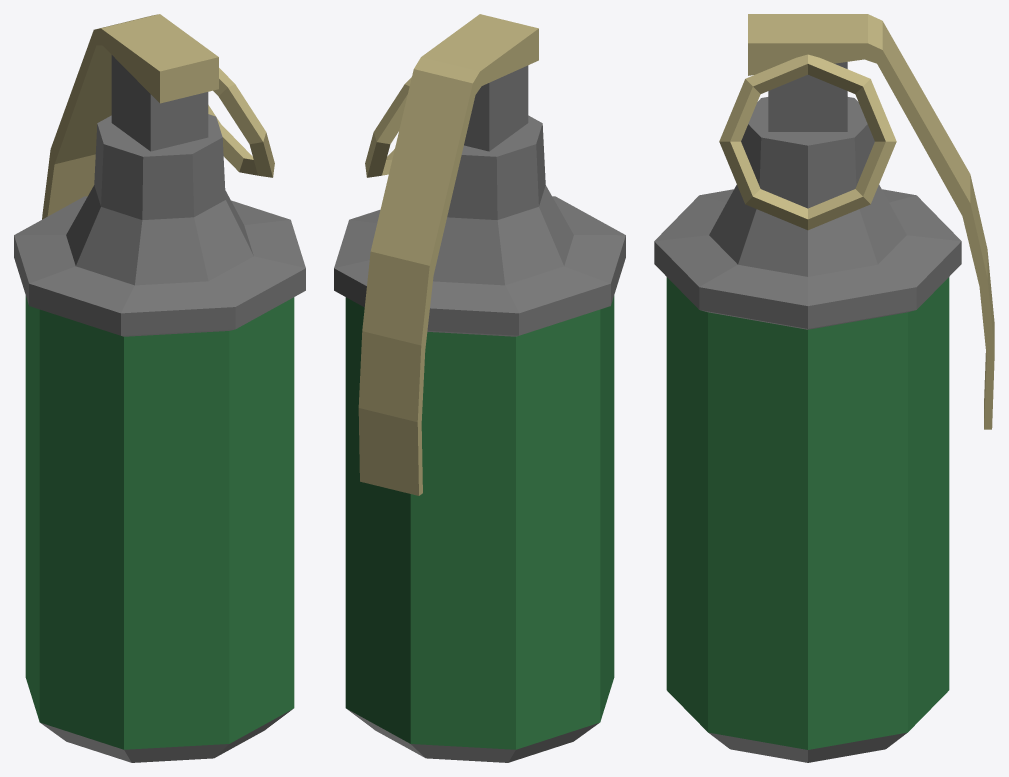
Rendered from Grenade-03.fbx.
The picture shows the model from 3 angles, left to right: view 1: azimuth 30°, elevation 25°; view 2: azimuth 150°, elevation 25°; view 3: azimuth 270°, elevation 25°; orthographic projection.
Parts seen in each view (by area): view 1: Cylinder.003; view 2: Cylinder.003; view 3: Cylinder.003.
Boxes of the visible parts, x1,y1,x2,y2 form: Cylinder.003: (14, 14, 305, 762); Cylinder.003: (334, 14, 625, 762); Cylinder.003: (654, 14, 994, 762).
Size of the model in its own units: 111 by 273 by 122.
